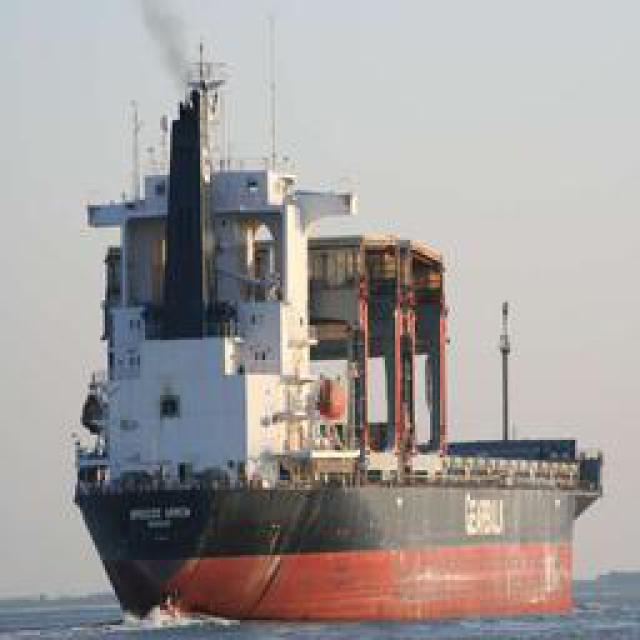Ship: (68, 35, 615, 630)
